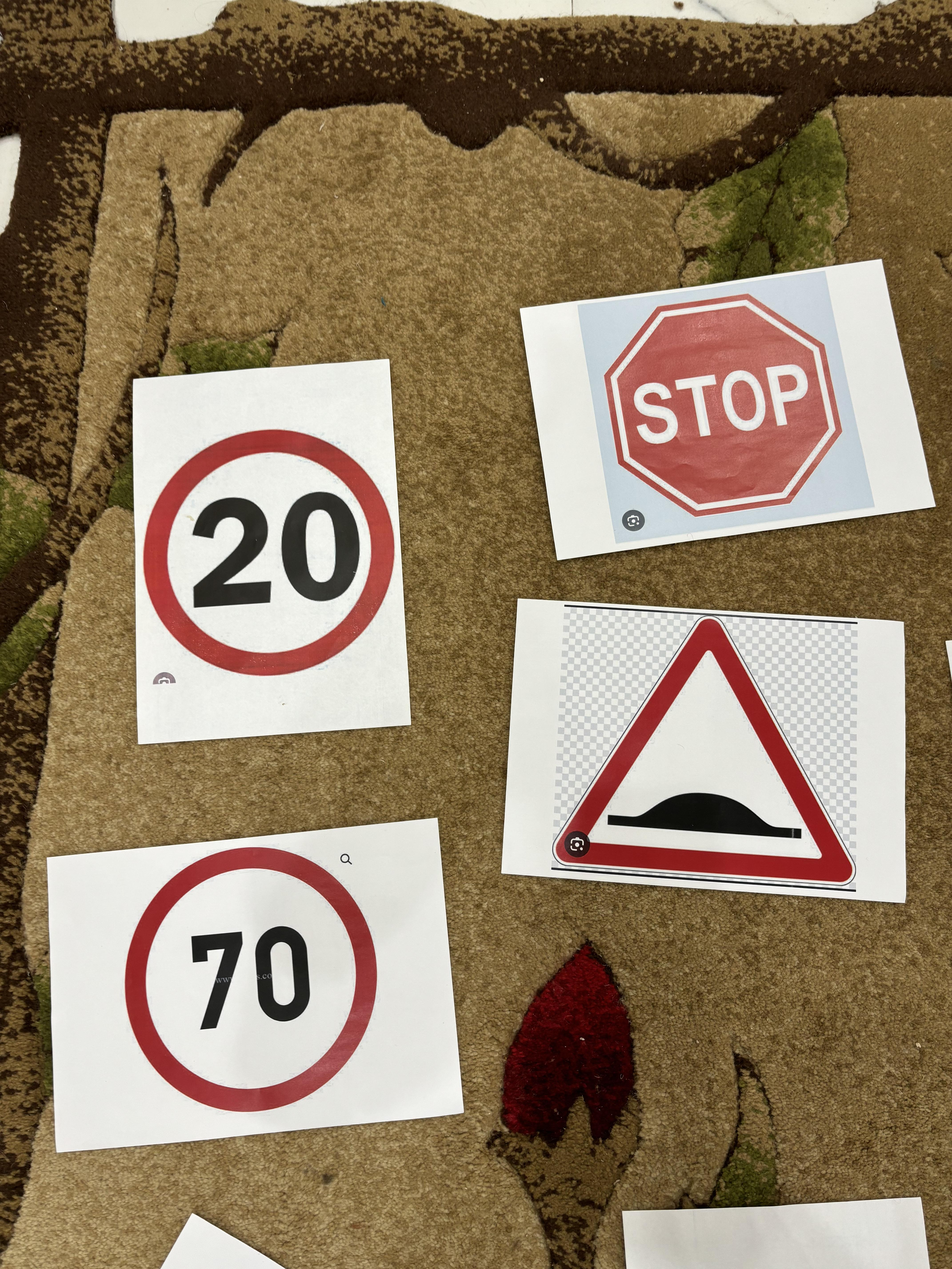20-Speed: (136, 411, 399, 684)
70-Speed: (120, 829, 383, 1123)
Hump: (545, 607, 852, 895)
Stop: (600, 296, 849, 520)
